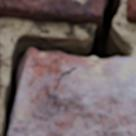brick: (10, 50, 135, 135), (0, 0, 104, 24), (127, 0, 135, 22)
crack: (1, 0, 133, 135)
